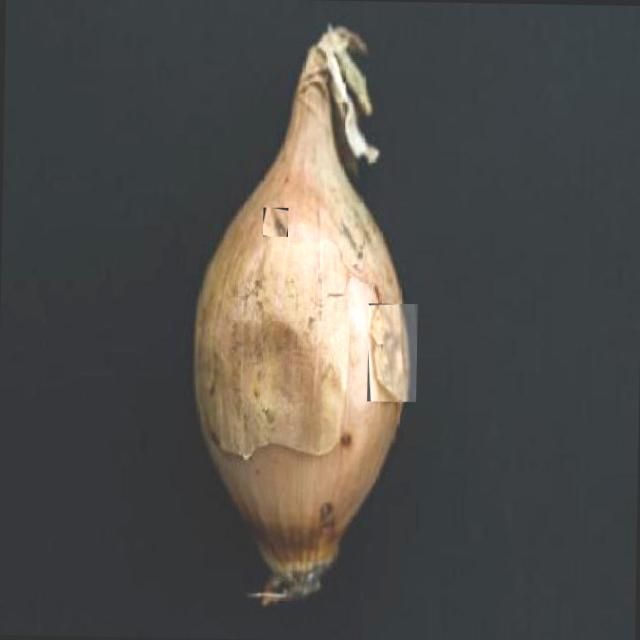mould: (367, 303, 418, 402), (262, 207, 288, 236)
